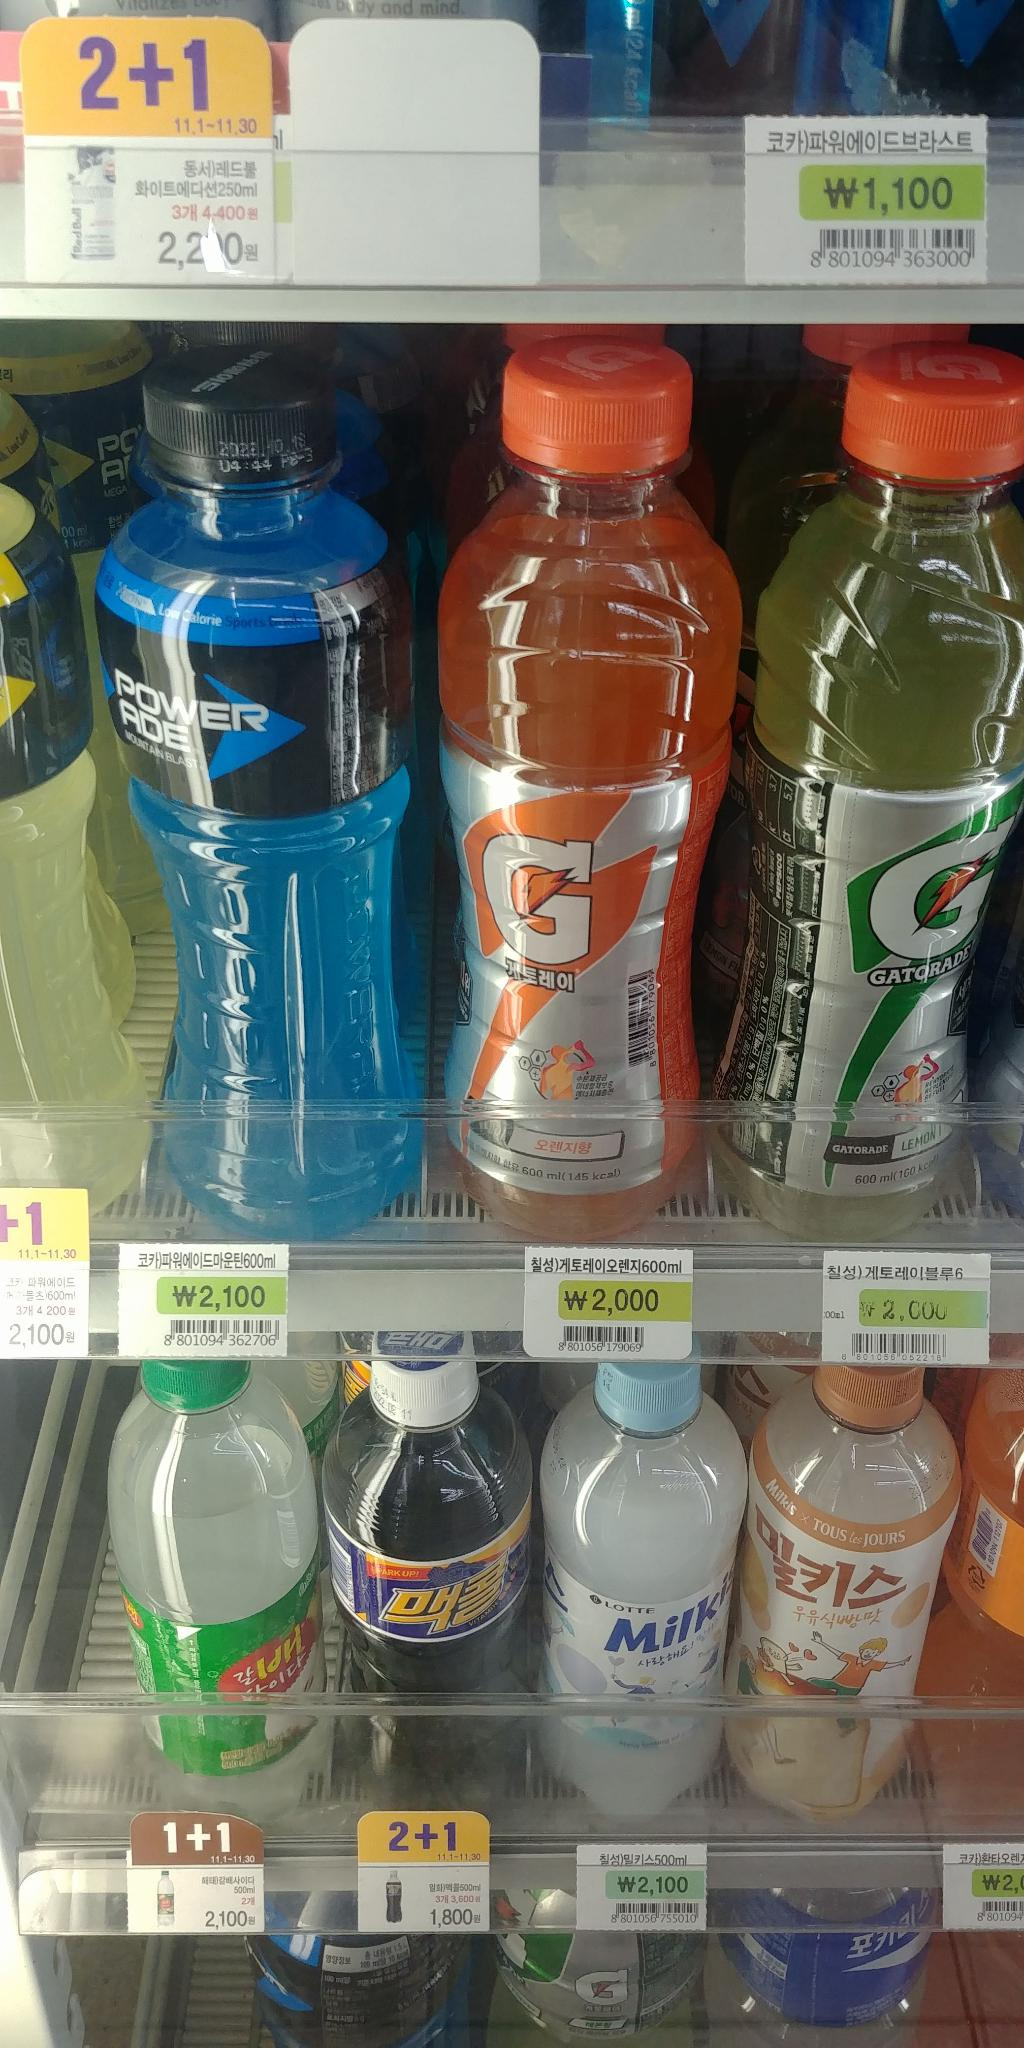gatorade_lemon: (707, 337, 1023, 1217)
powerade_mountainblast: (91, 345, 448, 1237)
